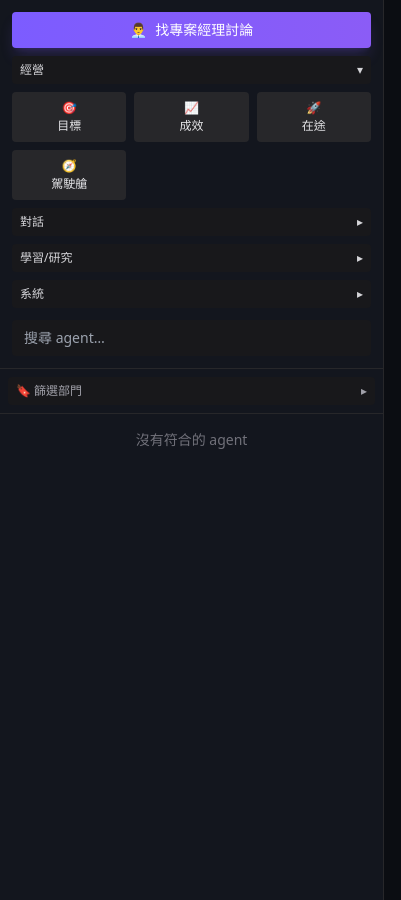
AgentSidebar 分組折疊 › 點擊「學習/研究」組頭展開後，筆記按鈕出現
This screenshot has width=401, height=900.
Click the button with test id "group-header-學習/研究".
click(46, 258)  # box 12,244 -> 371,272
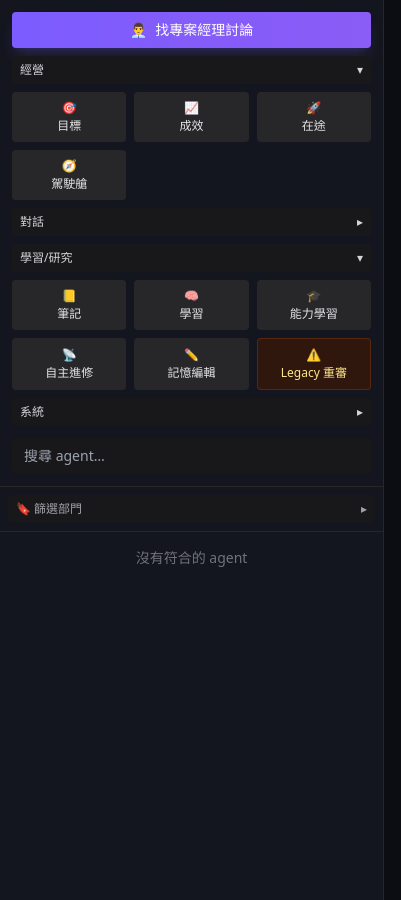
Expected: the button titled "共享筆記/知識庫" is shown, 12,280 -> 126,330
